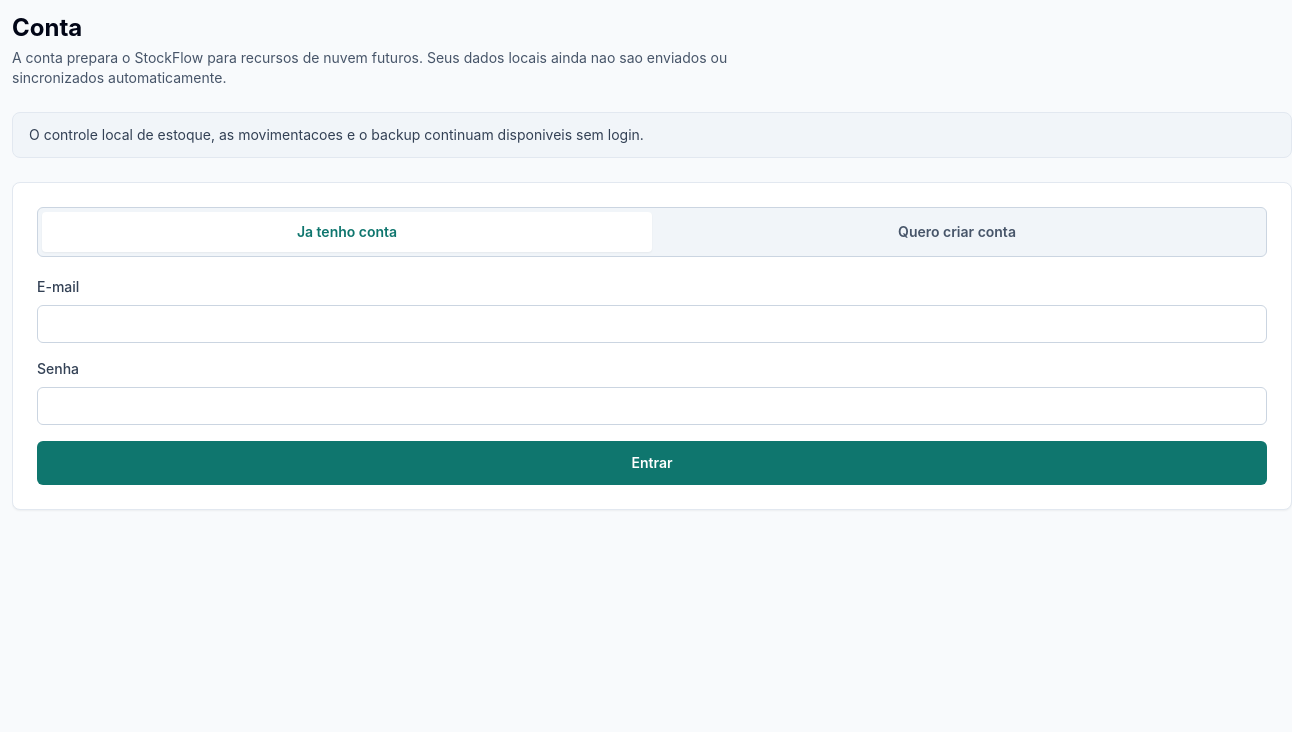
pagina Conta › erro tecnico de Auth vira mensagem amigavel
The image size is (1292, 732).
Expected: the button "Entrar" is shown, left=37, top=441, right=1267, bottom=485
In the field labelled "E-mail": [652, 324] box left=37, top=305, right=1267, bottom=343, type "pessoa@teste.com"
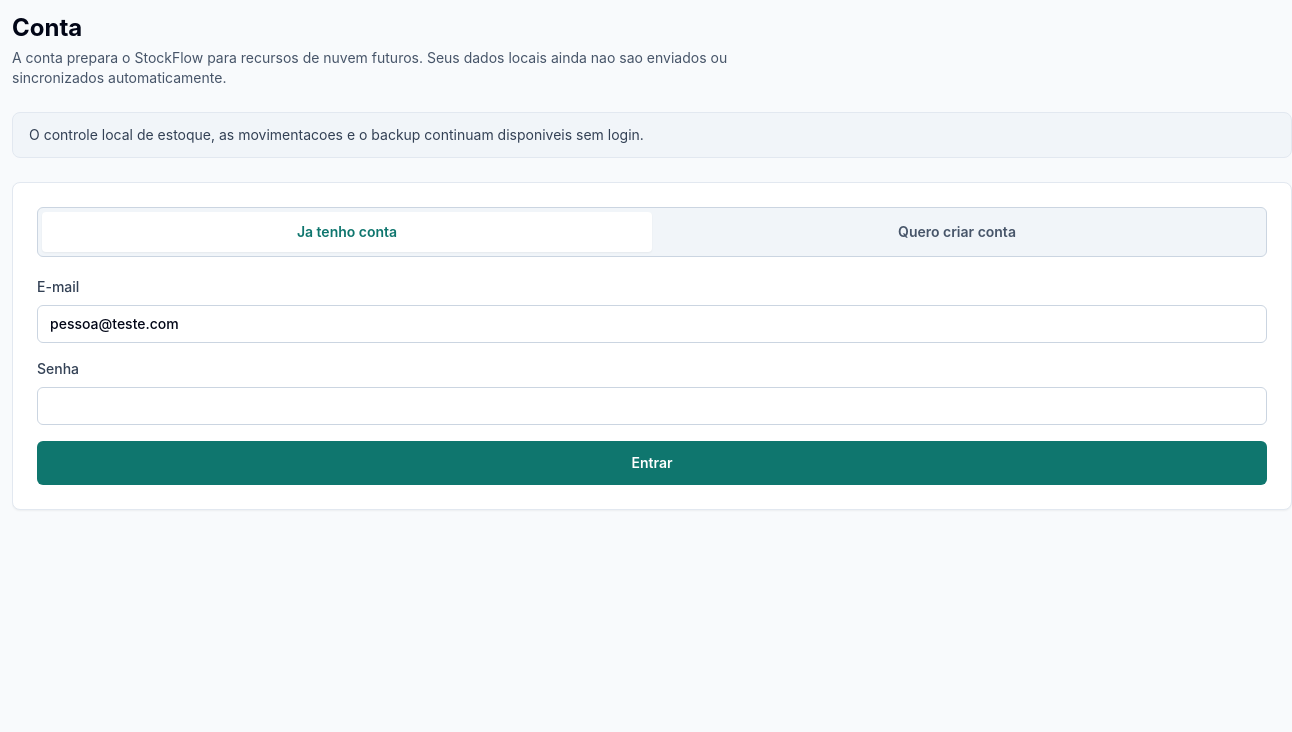
In the password field labelled "Senha": [652, 406] box left=37, top=387, right=1267, bottom=425, type "senha-segura"
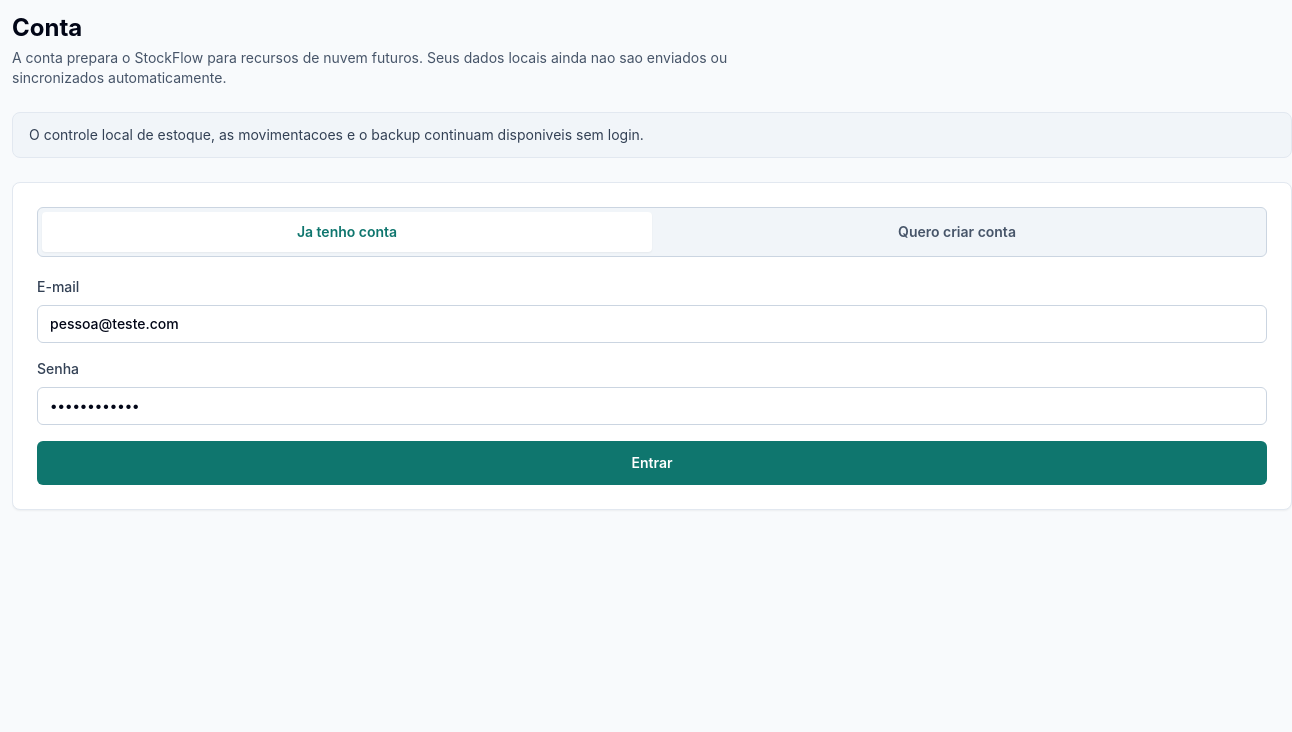
Click the button "Entrar": [652, 463] box left=37, top=441, right=1267, bottom=485
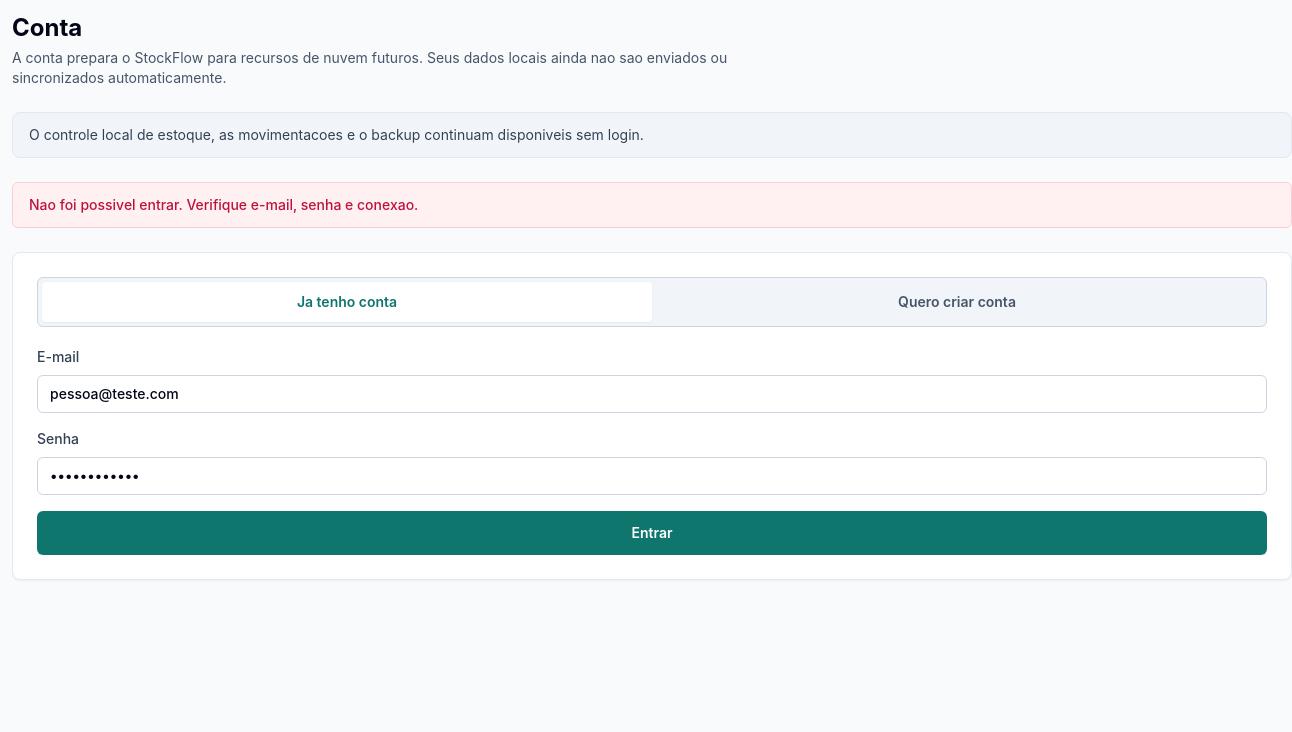
Expected: the message reads "Nao foi possivel entrar. Verifique e-mail, senha e conexao.", left=29, top=196, right=418, bottom=213
